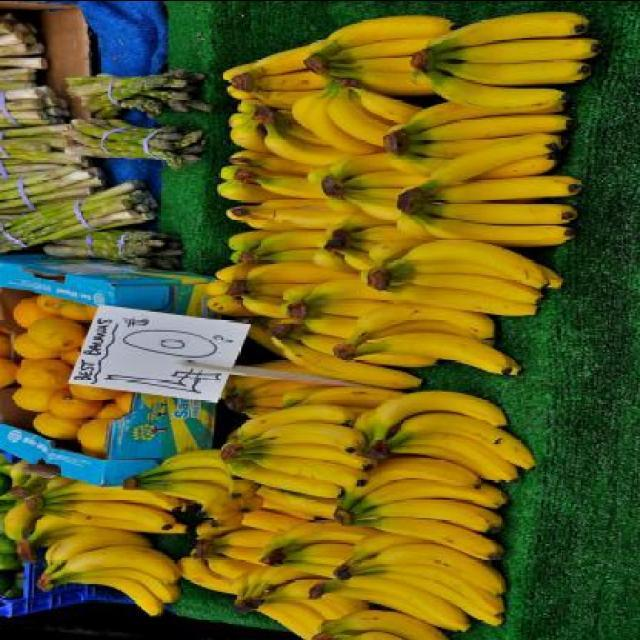Banana: (4, 8, 603, 640), (336, 333, 513, 375)
